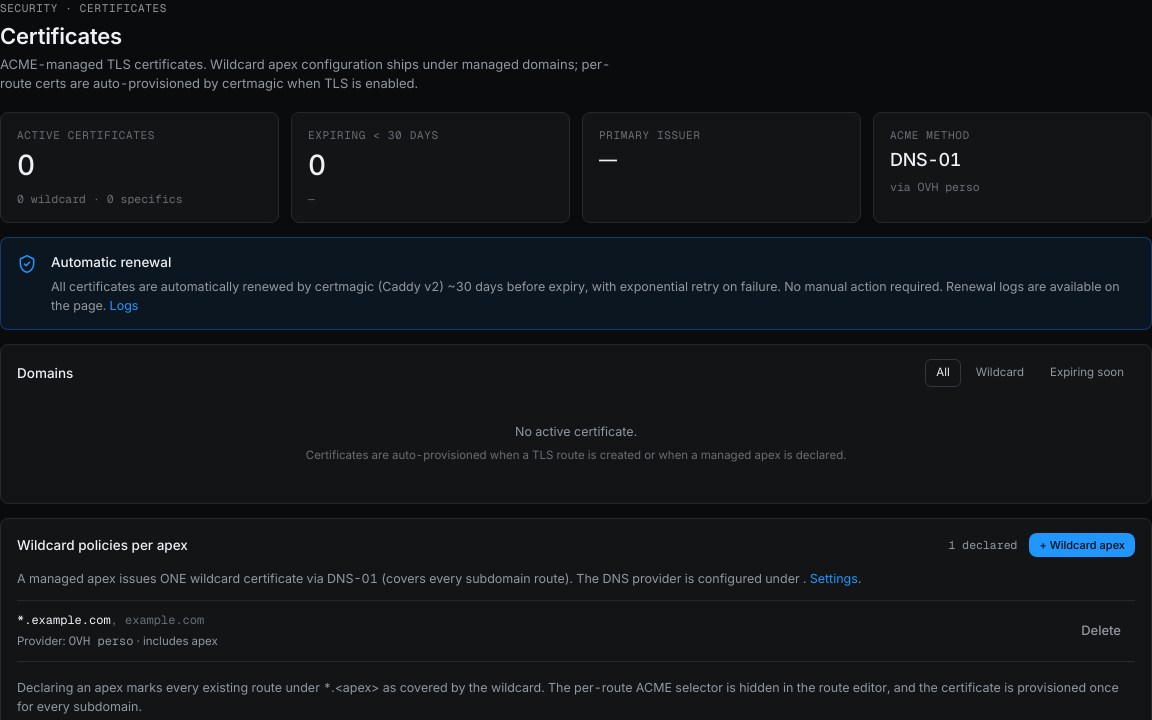
Scenario: /certs — managed-domains editor (migrated from /settings in #R-6 Pack A; reframed by T.5) › clicking Delete on a domain opens the revertTo modal
This screenshot has width=1152, height=720.
Expected: the field labelled "Revert covered routes to" is not shown
Step 1. Click the button with aria-label "Delete managed domain example.com" → (1101, 631), box [1067,615,1135,647]
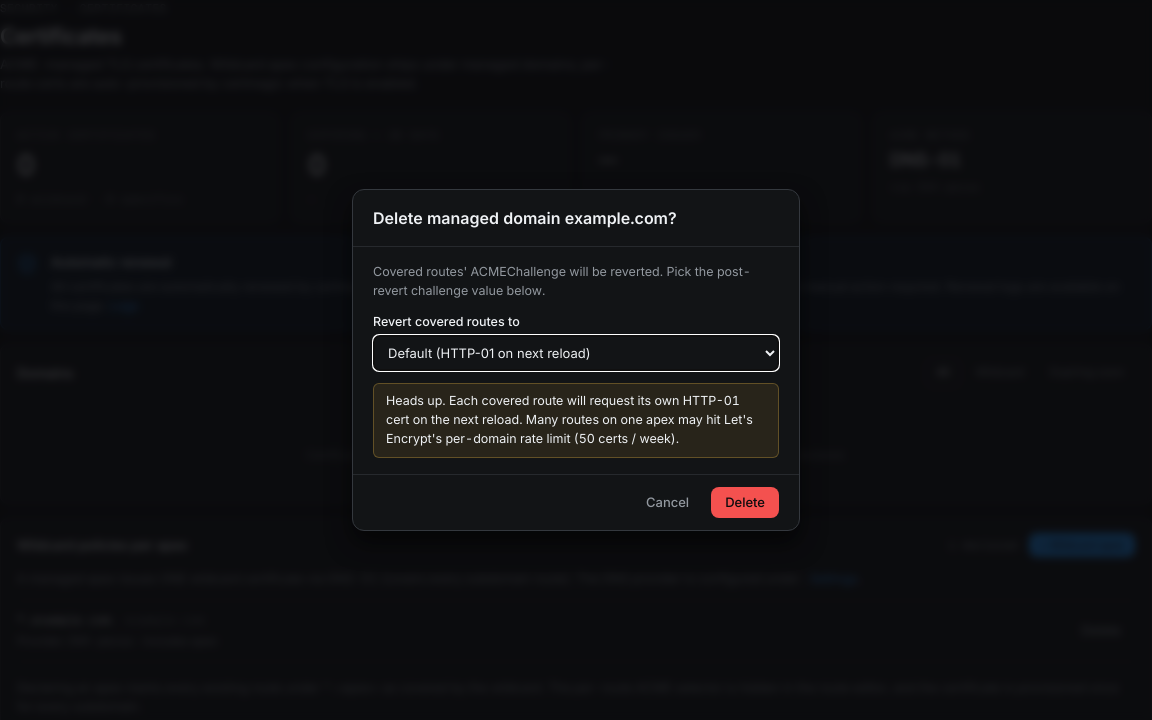
Result: the dropdown labelled "Revert covered routes to" is shown at [373,335,779,371]
Result: the heading "Delete managed domain example.com?" is shown at [373,208,677,228]
